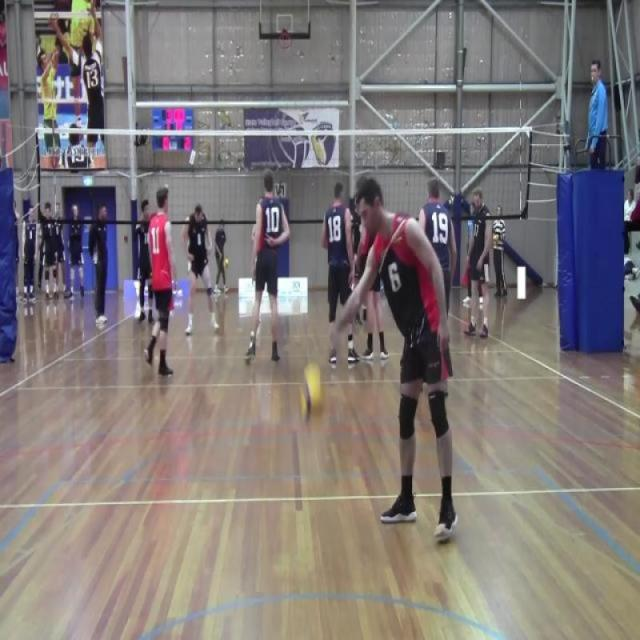volleyball: (298, 357, 326, 428), (222, 255, 230, 271), (492, 234, 499, 246)
